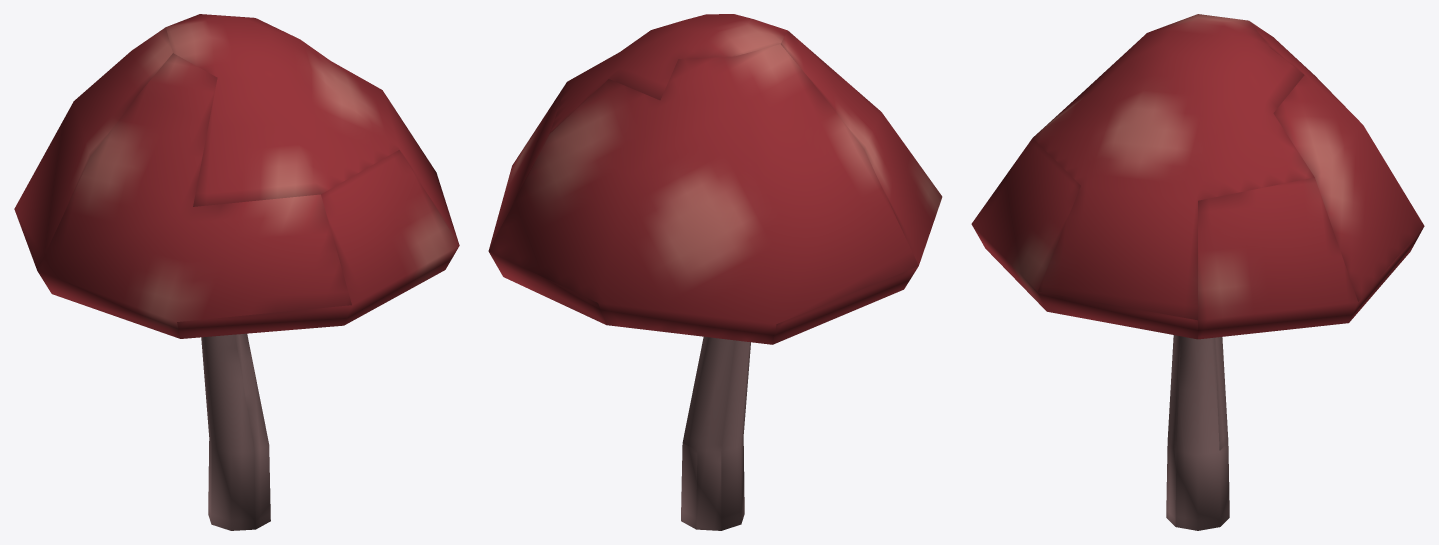
File: Cogumelo1.fbx
The picture shows the model from 3 angles, left to right: view 1: azimuth 30°, elevation 25°; view 2: azimuth 150°, elevation 25°; view 3: azimuth 270°, elevation 25°; orthographic projection. The views are drawn at different scales.
Visible parts, largest first — view 1: Cogumelo 1; view 2: Cogumelo 1; view 3: Cogumelo 1.
Part boxes in pixels (x1,y1,x2,y2): Cogumelo 1: [14, 14, 459, 530]; Cogumelo 1: [488, 14, 942, 530]; Cogumelo 1: [971, 14, 1424, 530].
Bounding box in the file's own units: 38.57 × 45.45 × 38.66.
